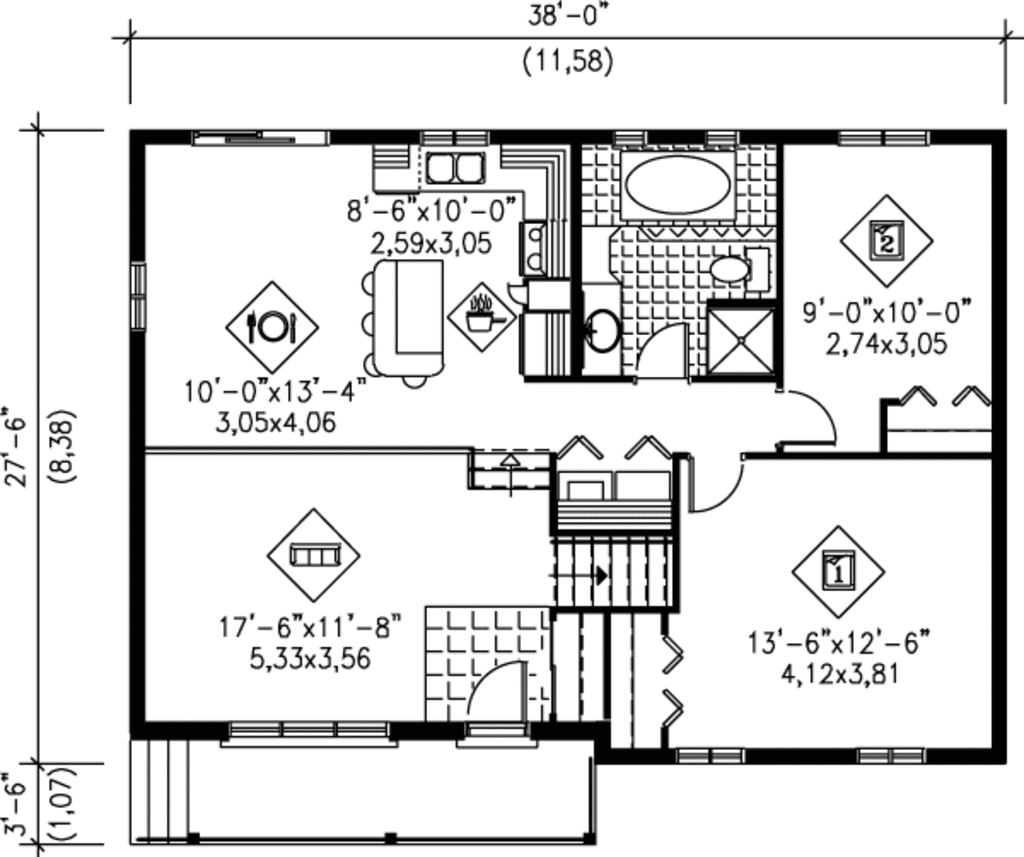door: (457, 659, 545, 761), (684, 448, 747, 521), (777, 385, 839, 451)
kitchen_bar: (357, 246, 452, 389)
large_sink: (705, 247, 779, 300)
small_sink: (579, 285, 622, 377)
twin_sink: (416, 142, 494, 199)
window: (214, 709, 394, 750), (836, 119, 945, 155), (668, 739, 748, 771), (853, 740, 931, 770), (124, 260, 154, 331)
